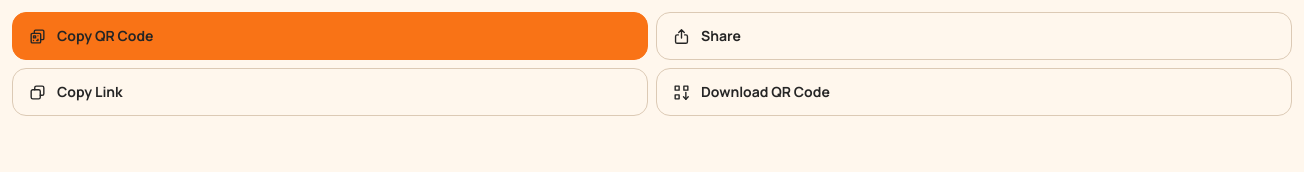
Test: QR actions › copies the QR code as a PNG image and confirms only after success
This screenshot has width=1304, height=172.
Click the button with test id "copy-qr". click: (105, 36)
box: [12,12,648,60]
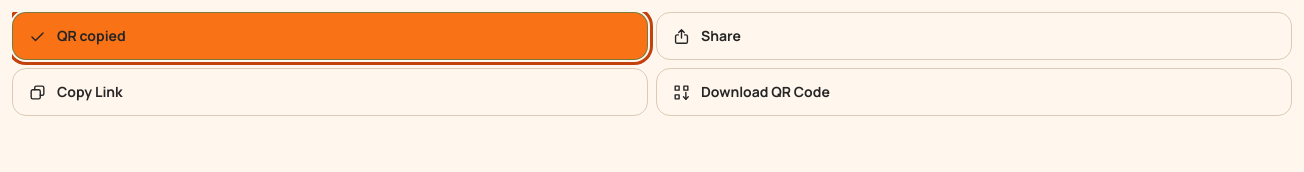
Expected: the button with test id "copy-qr" reads "QR copied", [12,12,648,60]
